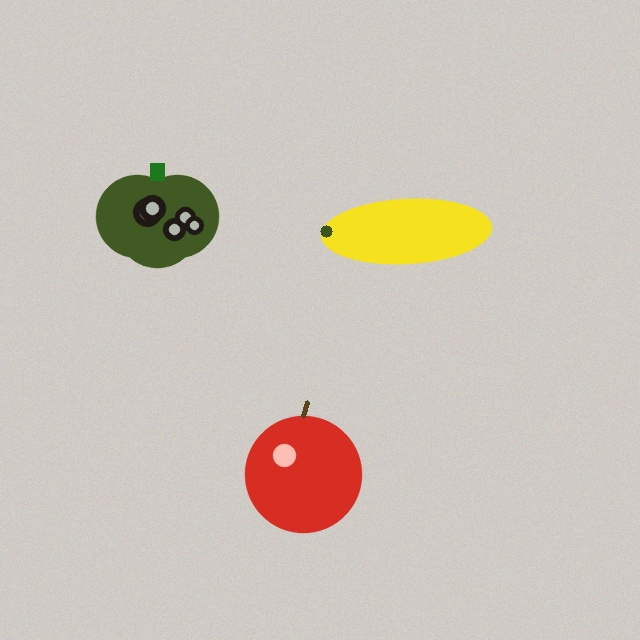Fresh apple: (245, 402, 361, 532)
Fresh banana: (317, 191, 495, 271)
Rotten bell pepper: (96, 163, 218, 267)
